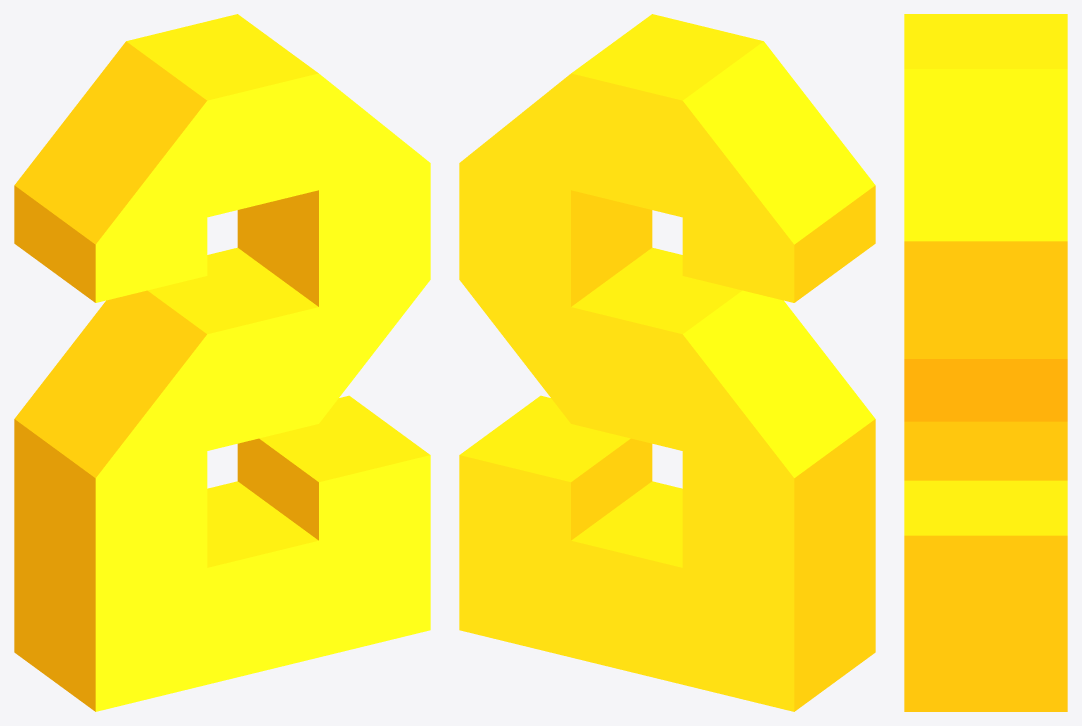
File: a751ed84-2b1d-44e5-93f0-bbc567f24eb6.glb
3 views of the same model, side by side, from view 1: azimuth 30°, elevation 25°; view 2: azimuth 150°, elevation 25°; view 3: azimuth 270°, elevation 25° (orthographic).
Parts seen in each view (by area): view 1: 2_DeltaBlock_Yellow; view 2: 2_DeltaBlock_Yellow; view 3: 2_DeltaBlock_Yellow.
Boxes of the visible parts, x1=… form: 2_DeltaBlock_Yellow: x1=14, y1=14, x2=430, y2=711; 2_DeltaBlock_Yellow: x1=459, y1=14, x2=875, y2=711; 2_DeltaBlock_Yellow: x1=904, y1=14, x2=1067, y2=711.
Size of what is drawn, in the model's own units: 0.1071 by 0.1786 by 0.045.
2 materials, 2 textured.
